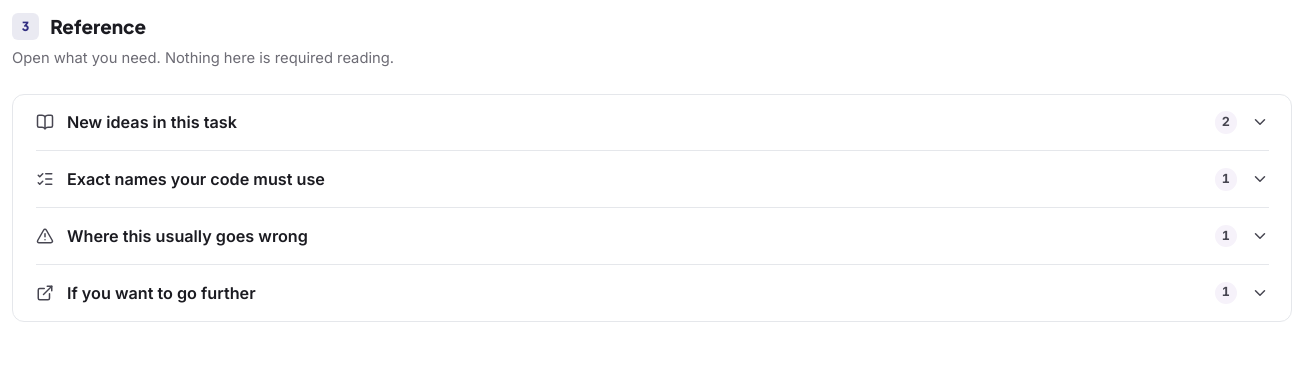
it: TaskReference — what you consult › keeps sections independent
Click the text "Where this usually goes wrong". click: (187, 236)
box: x1=67 y1=226 x2=308 y2=246
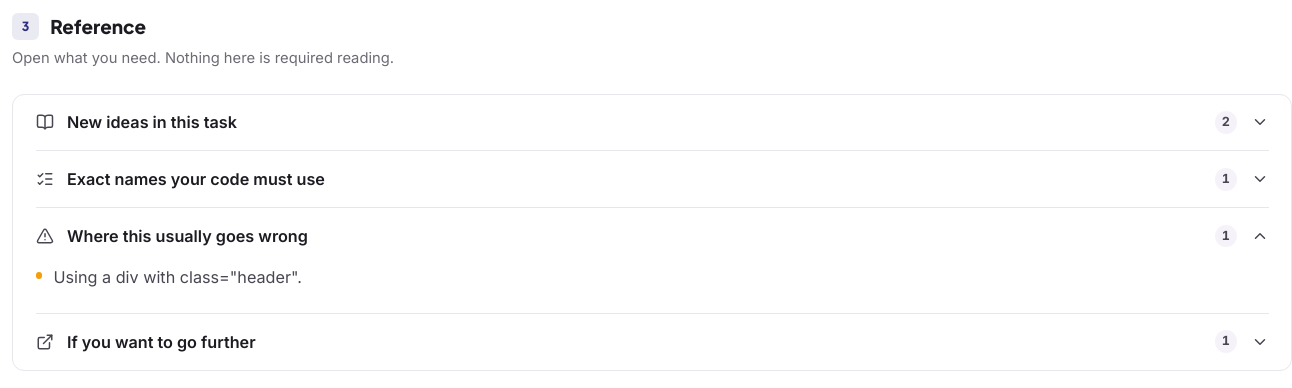
Check: the list item "Using a div with class=\"header\"." is shown, box x1=36 y1=267 x2=302 y2=287
